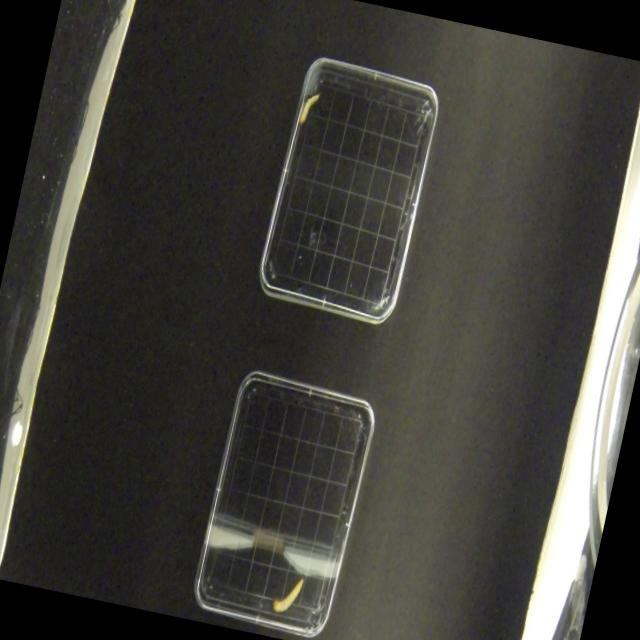larva: (270, 572, 304, 618), (296, 86, 322, 128)
